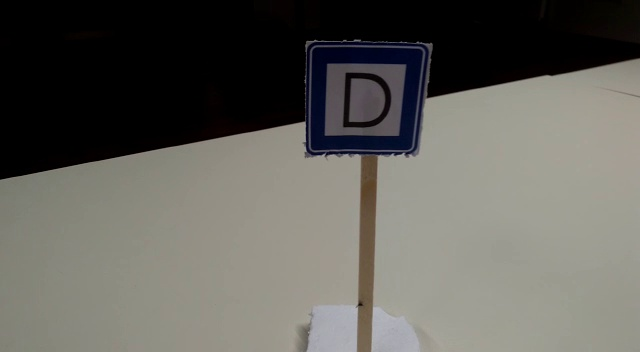durak: (304, 40, 432, 156)
